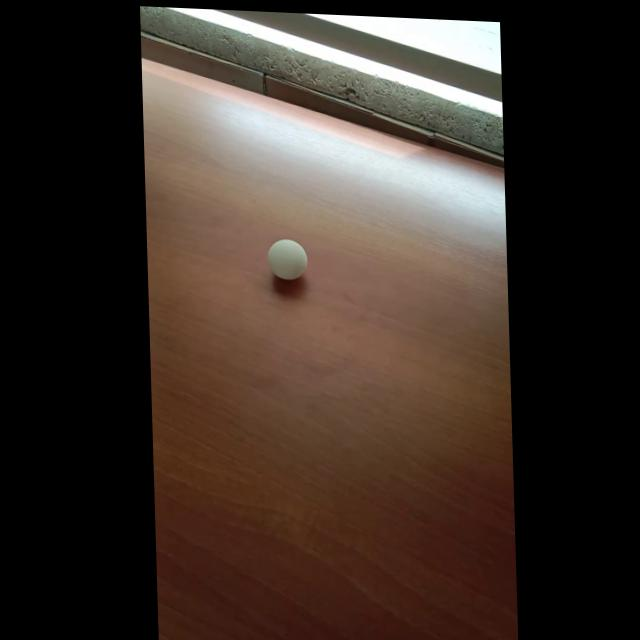white ball: (267, 238, 308, 281)
